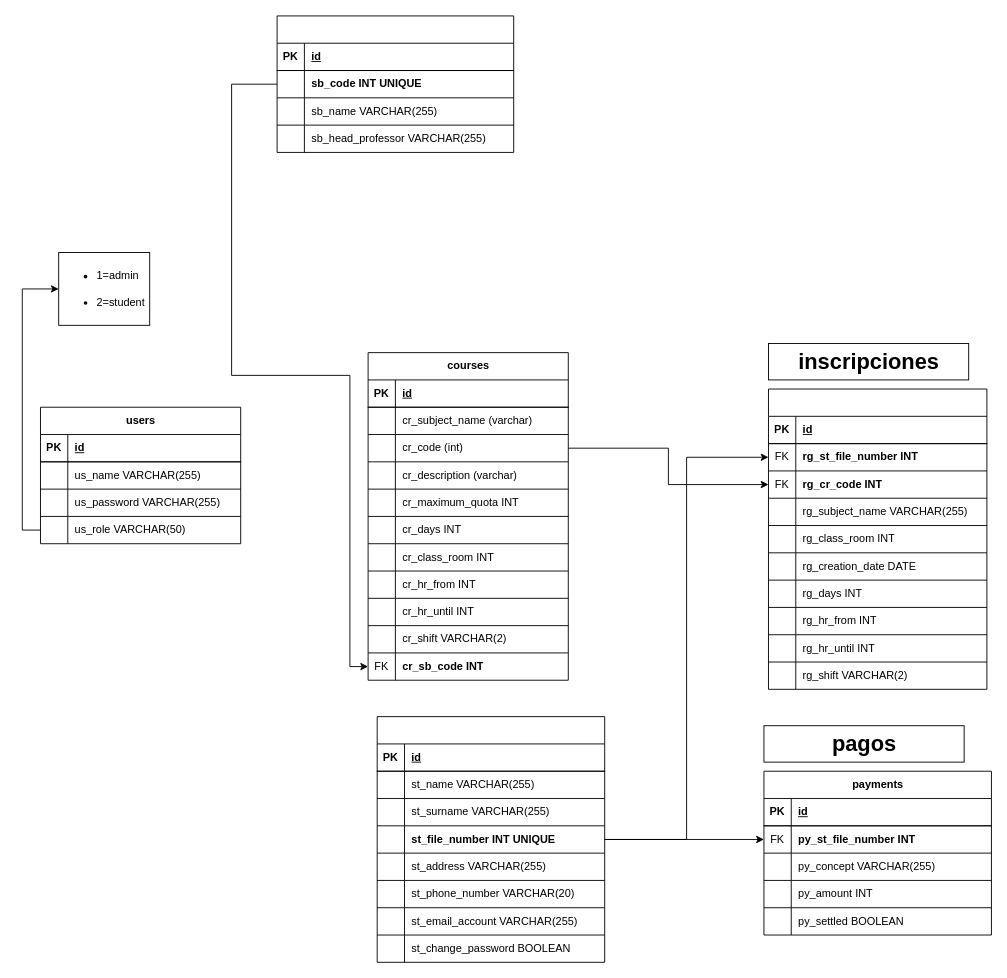
Some shapes in this 1007 by 978 pixel diagram are drawn without their labels. Each missing label, with the box of its shape:
registrations: (768, 388, 987, 689)
students: (376, 716, 605, 962)
subjects: (276, 15, 514, 152)
